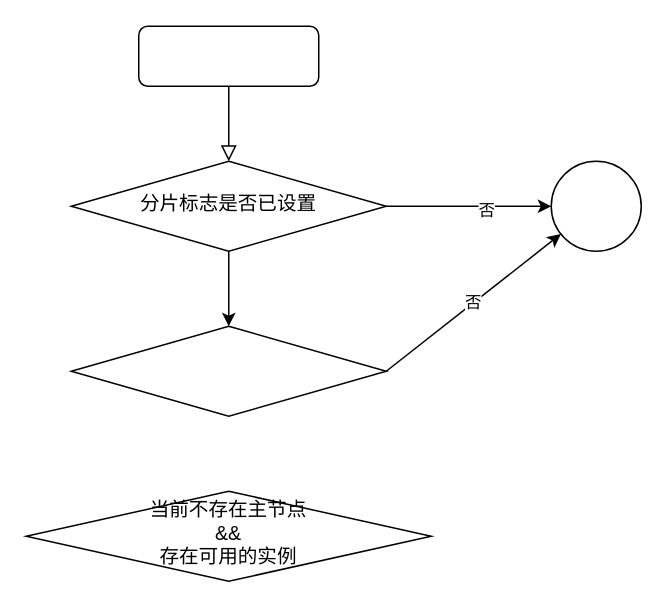
The diagram is 668 pixels wide and 608 high, and some of its shapes have lost their labels. The centre of each missing label's shape, as x and y in pixels:
Start: point (228, 55)
是否有可用的实例: point (228, 370)
